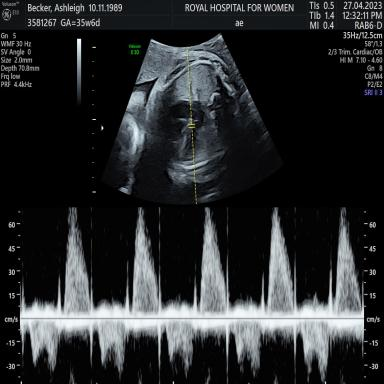Ultrasound-Waves: (26, 204, 361, 384)
